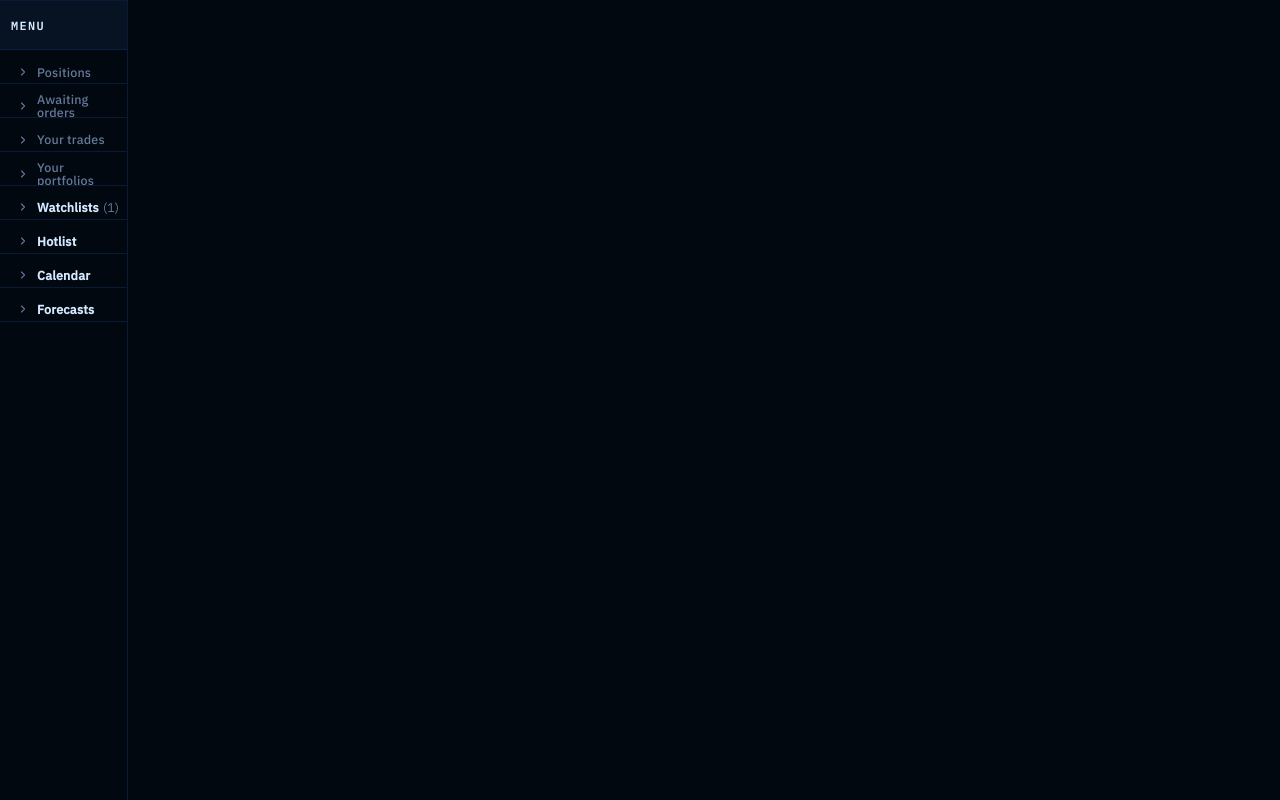
FloorLists › prints a scan’s candidate count in parentheses immediately after the thesis
Click the button "Watchlists (1)".
click(68, 207)  # box [5,191,132,224]
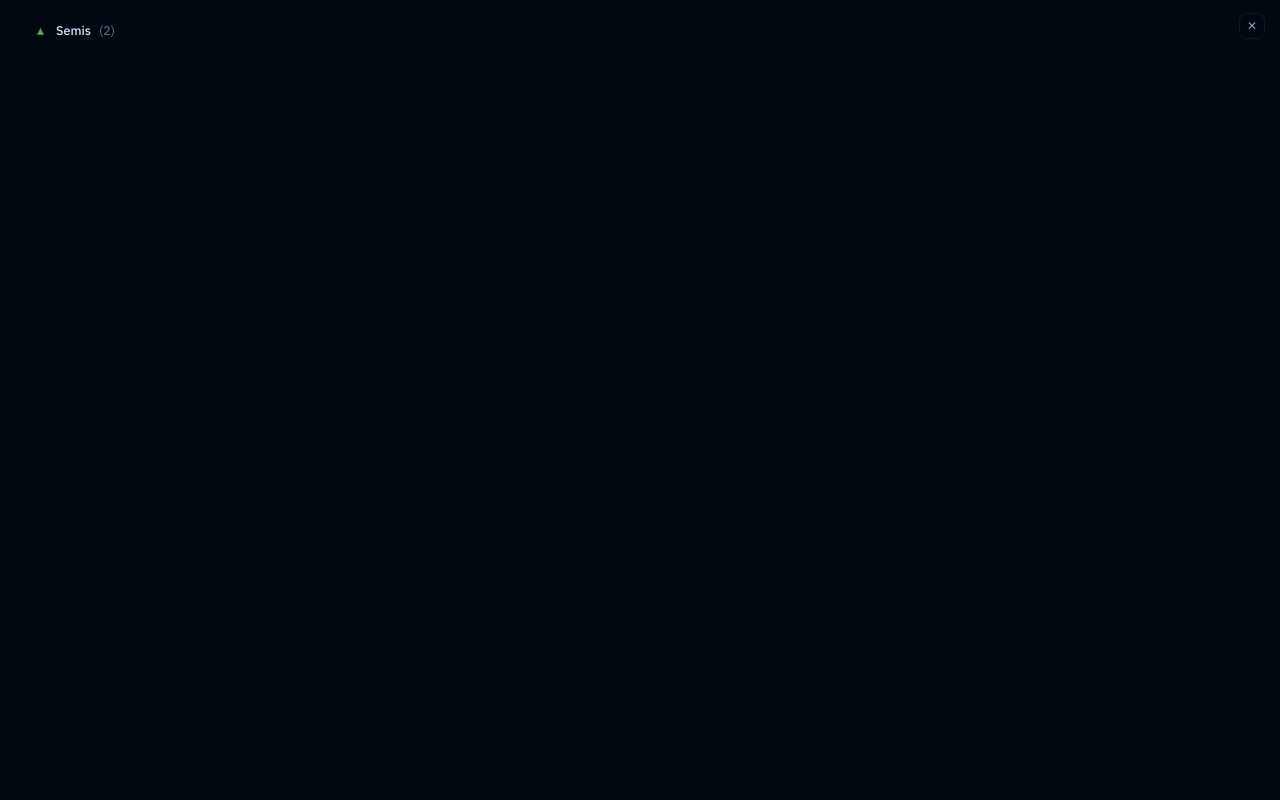
Check: the text "(2)" is shown, box [99,24,115,36]
